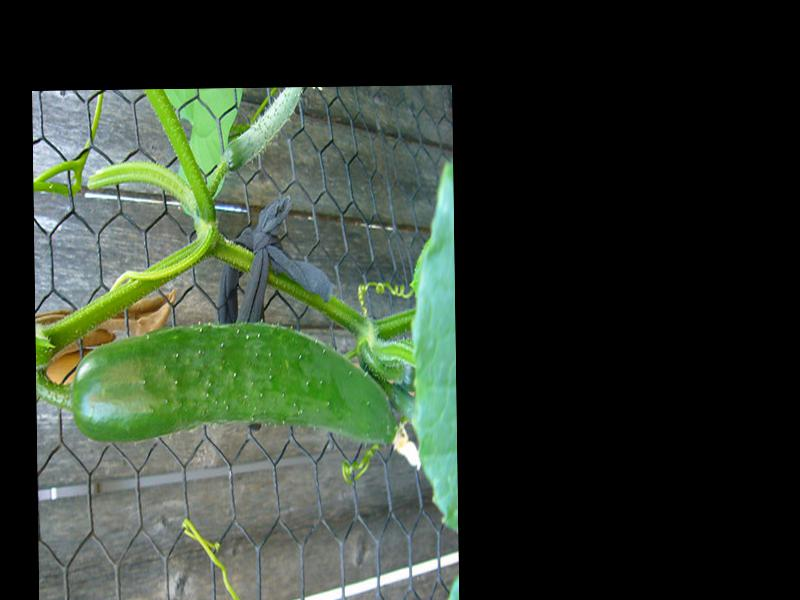Cucumber: (70, 318, 394, 449)
